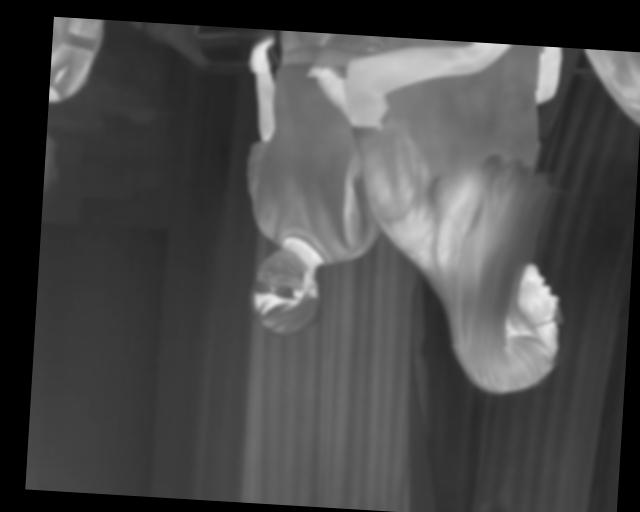face: (247, 248, 322, 337)
